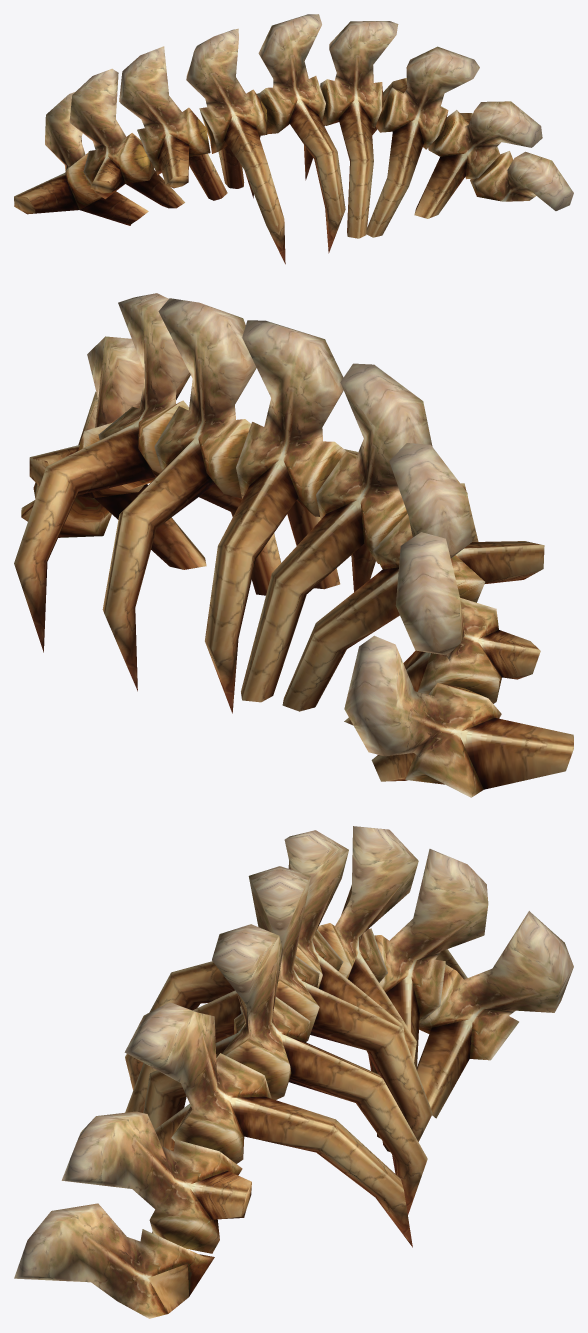
File: GIANTSPINE.glb
3 renders of one model, top to bottom at view 1: azimuth 30°, elevation 25°; view 2: azimuth 150°, elevation 25°; view 3: azimuth 270°, elevation 25°, orthographic. The views are drawn at different scales.
Visible parts, largest first — view 1: snakespinegiantarch_Spine0; view 2: snakespinegiantarch_Spine0; view 3: snakespinegiantarch_Spine0.
Part boxes in pixels (x1,y1,x2,y2): snakespinegiantarch_Spine0: (14, 14, 573, 264); snakespinegiantarch_Spine0: (14, 293, 573, 797); snakespinegiantarch_Spine0: (14, 826, 573, 1318).
Size of the model in its own units: 42.15 by 19.85 by 30.44.
1 material, 1 textured.
